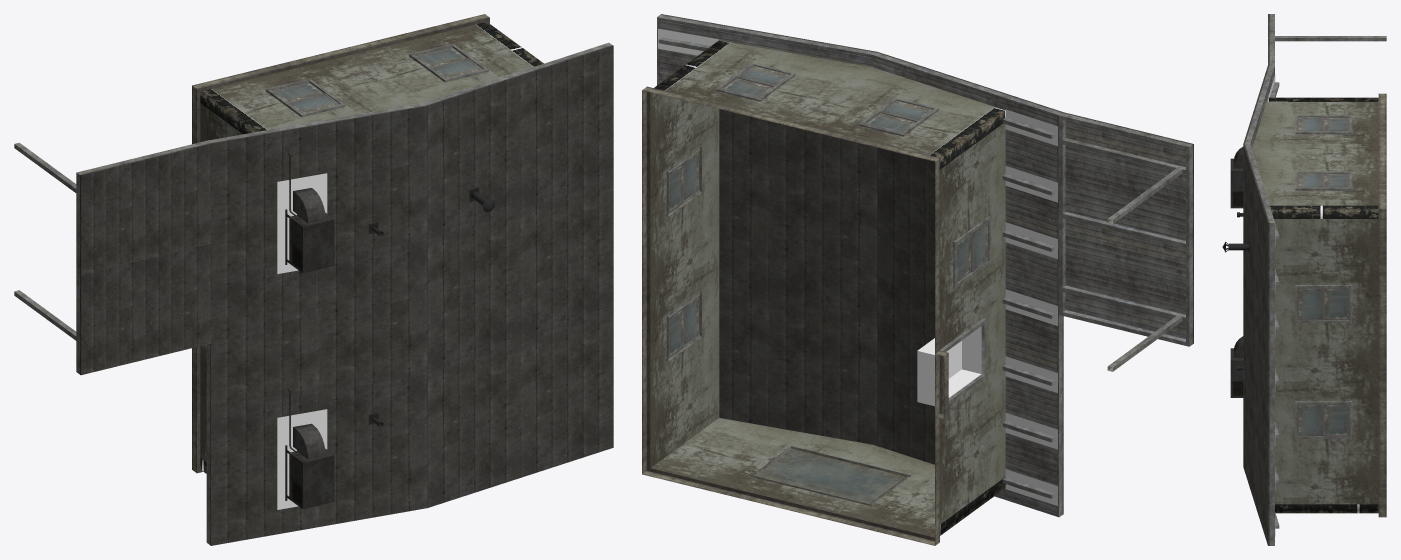
Rendered from novachome.obj.
3 renders of one model, left to right at view 1: azimuth 30°, elevation 25°; view 2: azimuth 150°, elevation 25°; view 3: azimuth 270°, elevation 25°, orthographic. The views are drawn at different scales.
Parts seen in each view (by area): view 1: NoVac_Home01:0, NoVac_Home01:1, NoVac_Home01:2; view 2: NoVac_Home01:0, NoVac_Home01:1, NoVac_Home01:2; view 3: NoVac_Home01:0, NoVac_Home01:2.
Boxes of the visible parts, box(x1,y1,x2,y2) form: NoVac_Home01:0: box(14, 14, 613, 545); NoVac_Home01:1: box(277, 173, 327, 509); NoVac_Home01:2: box(200, 22, 543, 473); NoVac_Home01:0: box(642, 14, 1193, 545); NoVac_Home01:1: box(658, 28, 1057, 505); NoVac_Home01:2: box(654, 40, 1005, 535); NoVac_Home01:0: box(1222, 14, 1386, 545); NoVac_Home01:2: box(1268, 97, 1378, 513).
Size of what is drawn, in the model's own units: 986 by 711 by 327.
